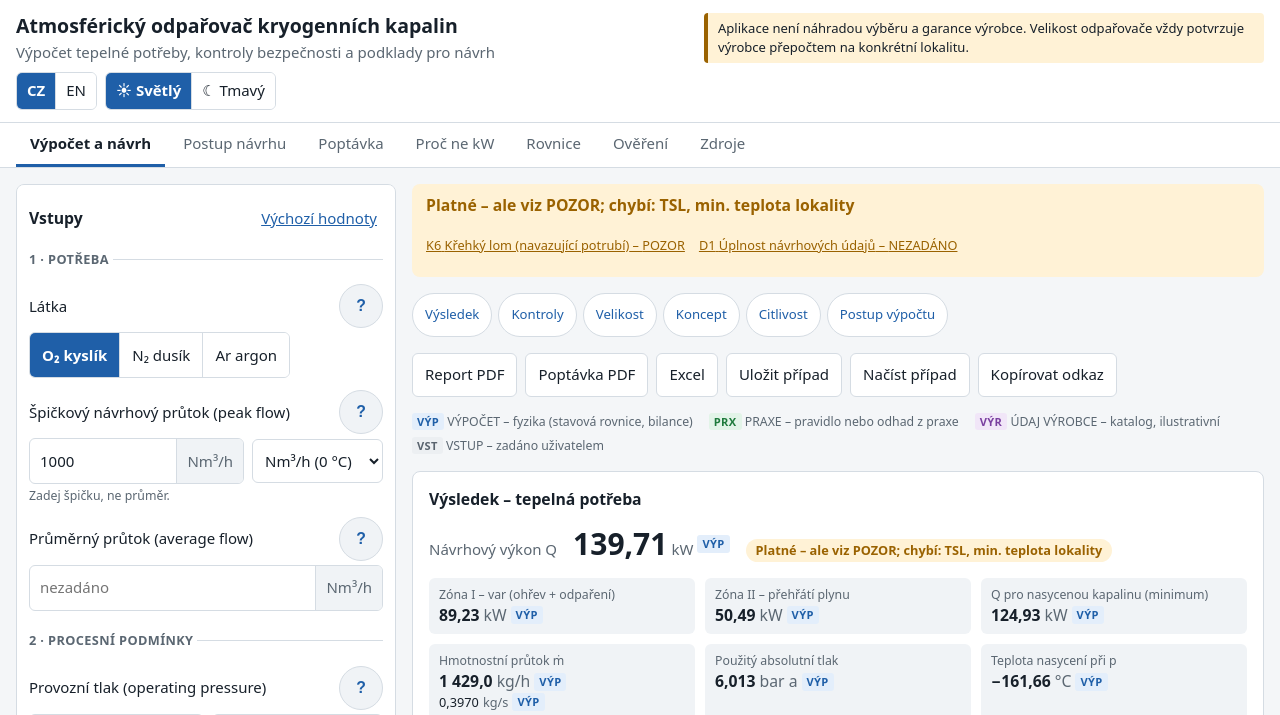
UX po nezávislé kontrole › postup návrhu ukazuje stav kroků podle případu
This screenshot has width=1280, height=715.
Click the button "Postup návrhu".
click(235, 145)  # box x1=169 y1=123 x2=300 y2=167
(page scrolled)
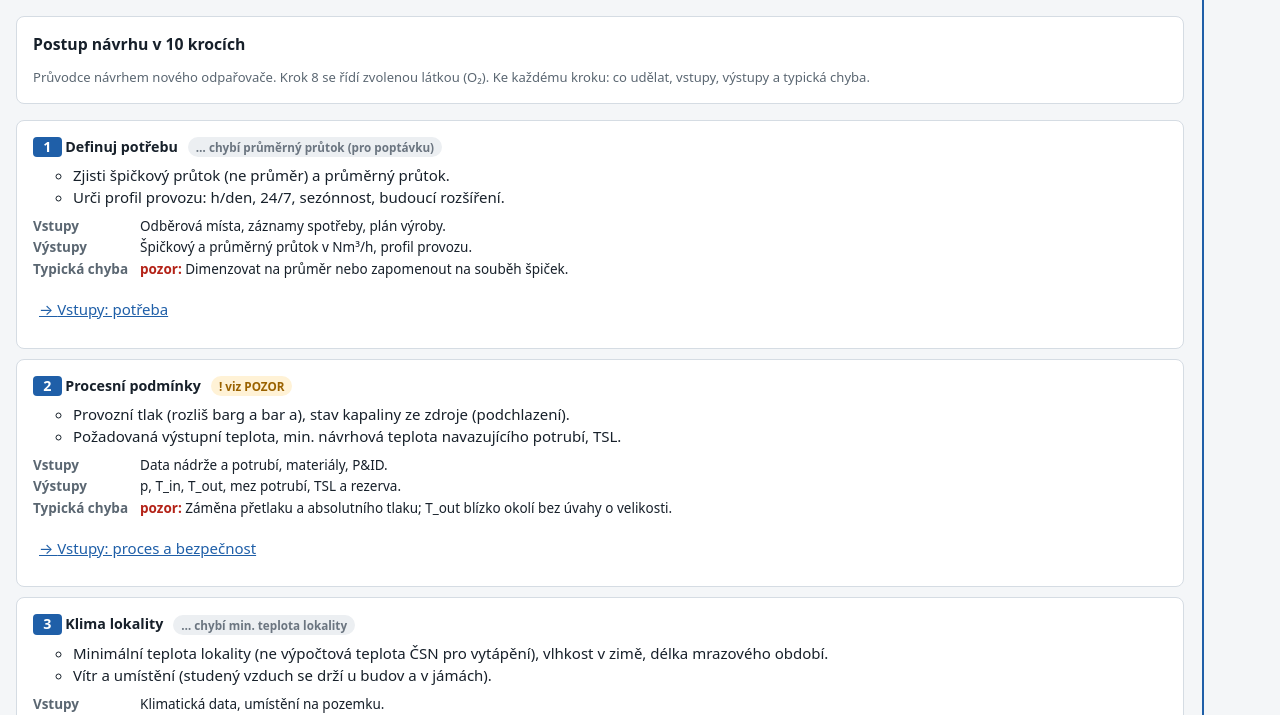
Now the text with test id "step-state-3" shows "chybí min. teplota lokality", box x1=194 y1=617 x2=347 y2=633
Now the text with test id "step-state-2" shows "viz POZOR", box x1=225 y1=378 x2=284 y2=394
